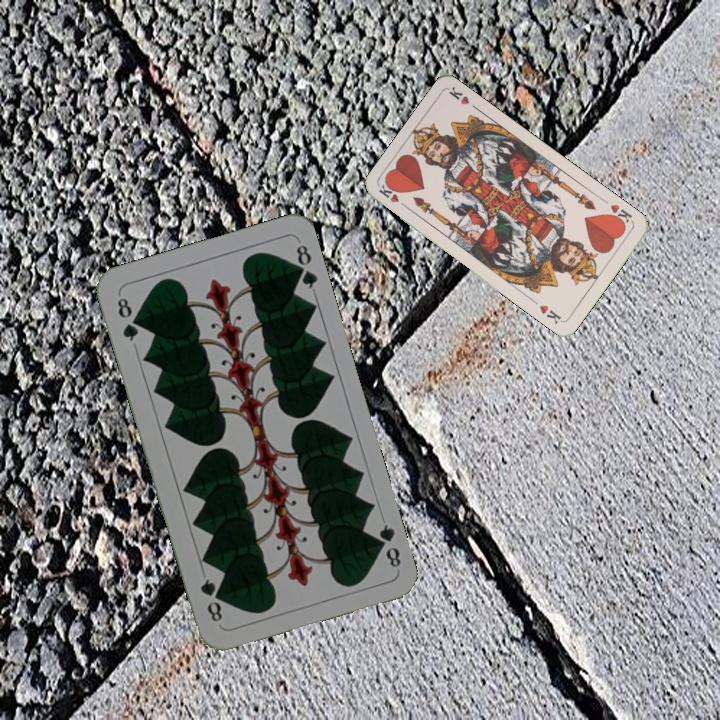G8: (370, 520, 404, 570), (113, 290, 141, 344)
HK: (375, 180, 411, 212), (605, 200, 635, 229)
